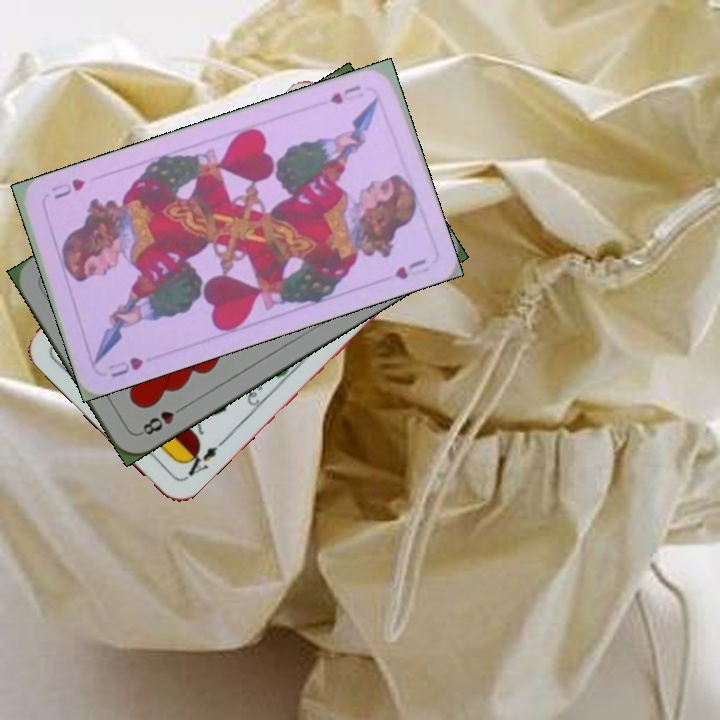EA: (178, 441, 221, 482)
H8: (135, 401, 189, 438)
HU: (104, 352, 146, 380), (325, 81, 364, 107)
